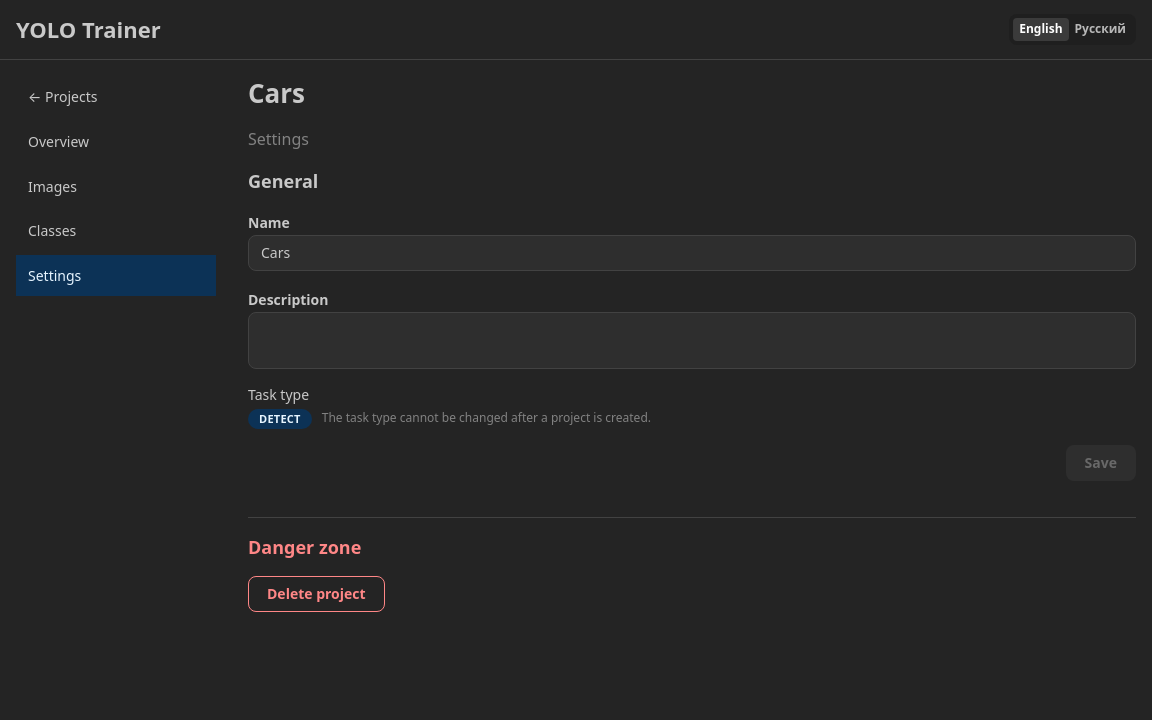
Test: DeleteProjectModal › a 500 from DELETE keeps the modal open and shows the translated error title plus the API detail
Click the button "Delete project" at [316, 594], box [248,576,385,612]
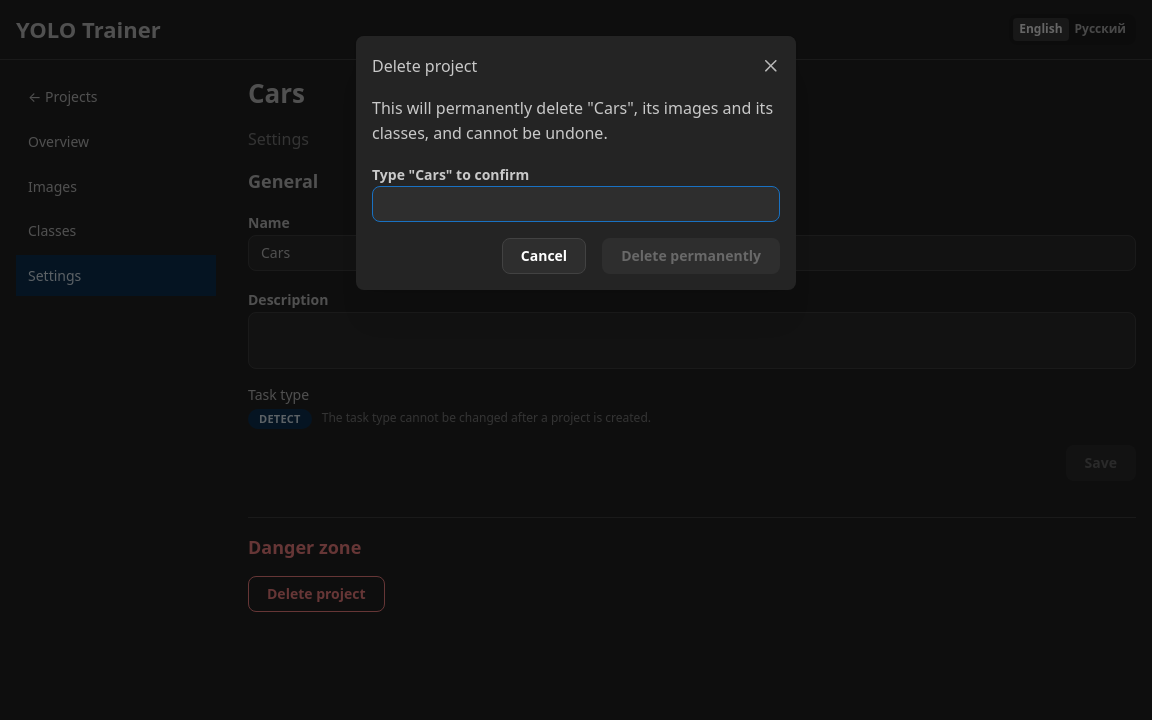
Type "Cars" into the field labelled "Type \"Cars\" to confirm" at [576, 204], box [372,186,780,222]
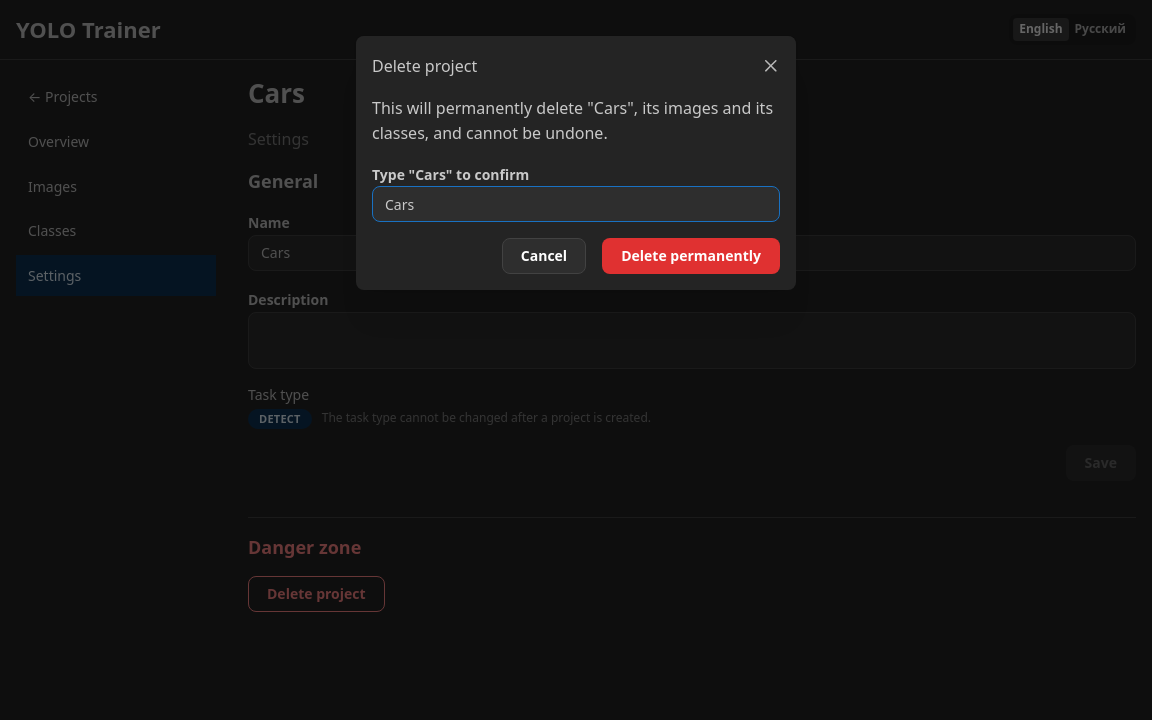
Click the button "Delete permanently" at [691, 256], box [602,238,780,274]
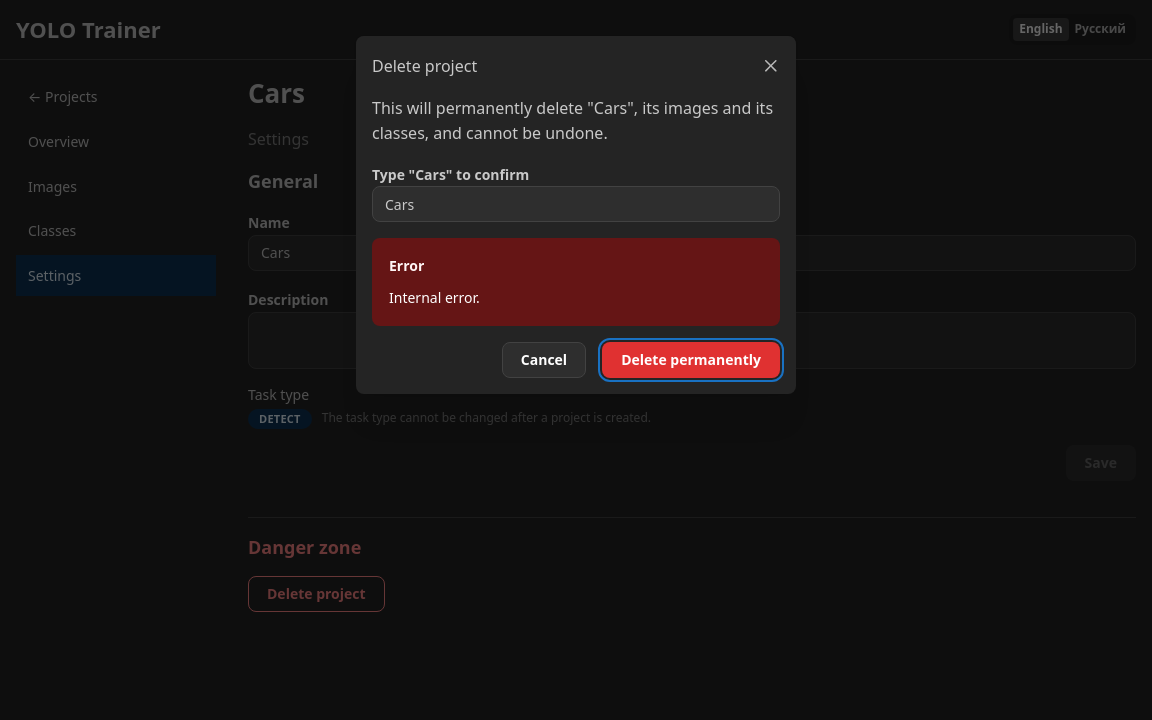
Expected: the text "Internal error." is shown, [389,288,480,307]
Expected: the text "Error" is shown, [389,255,424,277]
